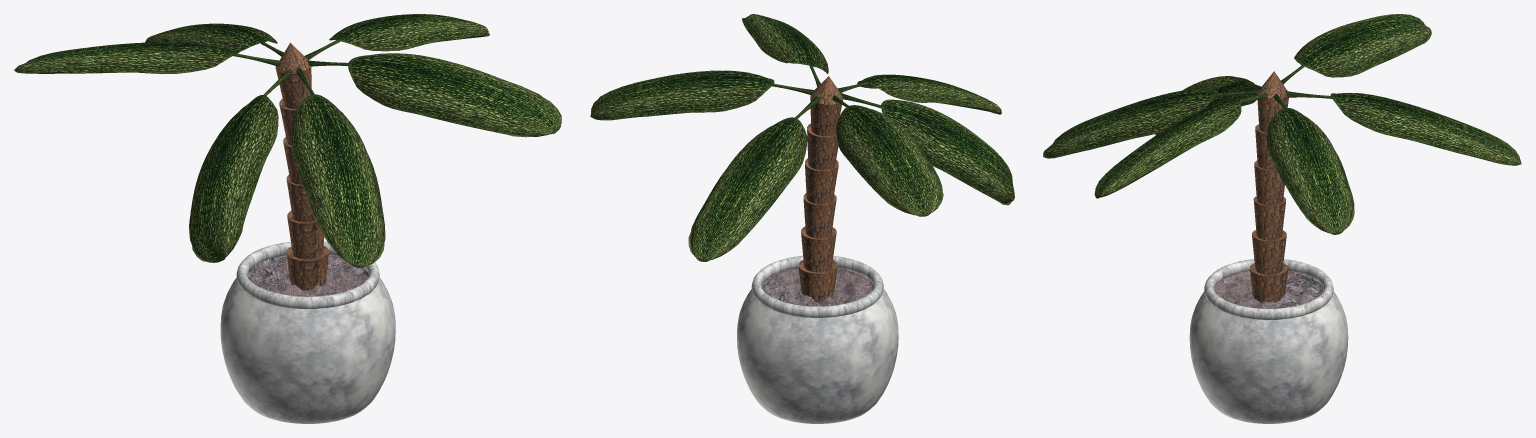
Rendered from plant.FBX.
3 renders of one model, left to right at view 1: azimuth 30°, elevation 25°; view 2: azimuth 150°, elevation 25°; view 3: azimuth 270°, elevation 25°, orthographic. The views are drawn at different scales.
Parts seen in each view (by area): view 1: vase, leaf006, leaf005, leaf004, leaf003, stalk, leaf007, dirt, leaf001; view 2: vase, leaf001, leaf003, stalk, leaf007, leaf004, leaf005, leaf006, dirt; view 3: vase, leaf007, leaf001, stalk, leaf003, leaf005, leaf006, dirt, leaf004.
Boxes of the visible parts, x1=… form: vase: x1=220, y1=241, x2=395, y2=423; leaf006: x1=307, y1=53, x2=561, y2=137; leaf005: x1=290, y1=68, x2=385, y2=267; leaf004: x1=189, y1=70, x2=291, y2=262; leaf003: x1=14, y1=42, x2=280, y2=73; stalk: x1=275, y1=42, x2=328, y2=290; leaf007: x1=304, y1=14, x2=489, y2=59; dirt: x1=247, y1=255, x2=368, y2=296; leaf001: x1=145, y1=23, x2=283, y2=56; vase: x1=737, y1=255, x2=898, y2=423; leaf001: x1=688, y1=96, x2=818, y2=261; leaf003: x1=832, y1=95, x2=943, y2=216; stalk: x1=798, y1=76, x2=843, y2=302; leaf007: x1=590, y1=70, x2=814, y2=120; leaf004: x1=840, y1=92, x2=1014, y2=205; leaf005: x1=837, y1=74, x2=1001, y2=114; leaf006: x1=742, y1=14, x2=828, y2=86; dirt: x1=761, y1=267, x2=873, y2=306; vase: x1=1189, y1=259, x2=1348, y2=423; leaf007: x1=1266, y1=94, x2=1354, y2=234; leaf001: x1=1285, y1=91, x2=1521, y2=165; stalk: x1=1250, y1=71, x2=1288, y2=302; leaf003: x1=1281, y1=14, x2=1431, y2=84; leaf005: x1=1043, y1=89, x2=1259, y2=158; leaf006: x1=1094, y1=93, x2=1267, y2=198; dirt: x1=1214, y1=270, x2=1323, y2=308; leaf004: x1=1155, y1=76, x2=1261, y2=134.
Size of the model in its own units: 42.76 by 46.36 by 34.66.
